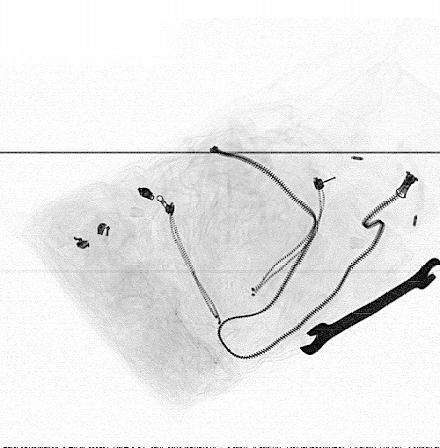Wrench: (298, 255, 439, 359)
